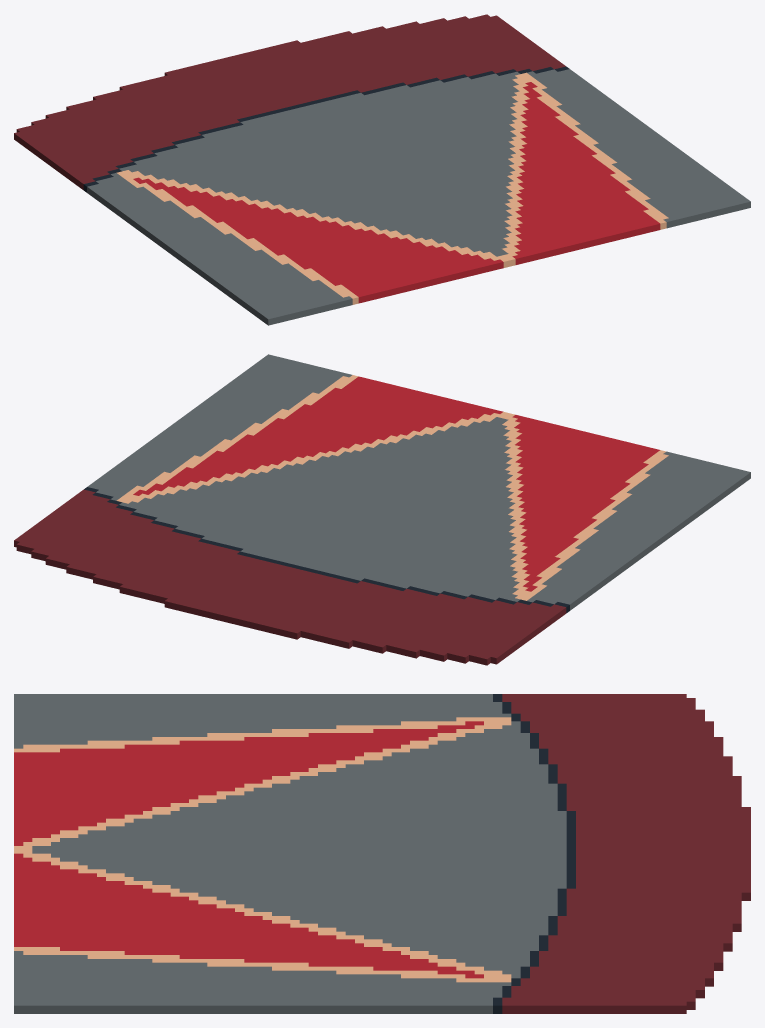
The model's file is monument_circle_top_overtile.obj.
The picture shows the model from 3 angles, top to bottom: view 1: azimuth 30°, elevation 25°; view 2: azimuth 150°, elevation 25°; view 3: azimuth 270°, elevation 25°; orthographic projection. The views are drawn at different scales.
Size of the model in its own units: 8 by 0.1 by 8.
1 material, 1 textured.
